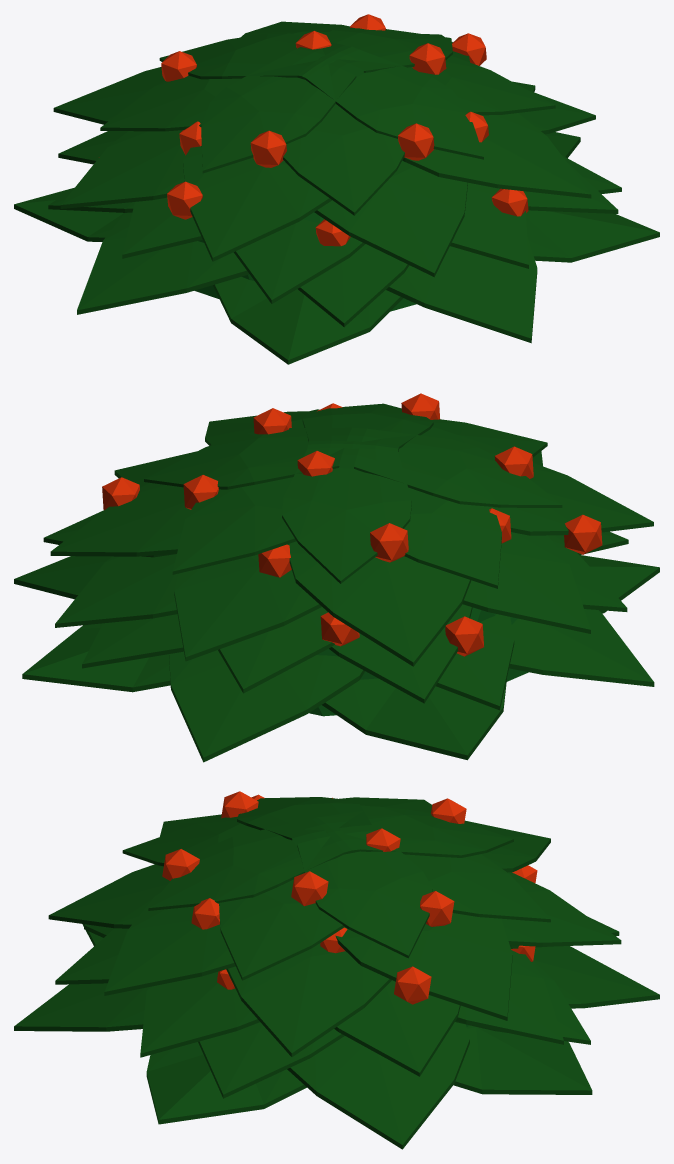
Rendered from BushLOrangeFruits.obj.
3 views of the same model, one above another, from view 1: azimuth 30°, elevation 25°; view 2: azimuth 150°, elevation 25°; view 3: azimuth 270°, elevation 25° (orthographic). The views are drawn at different scales.
Parts seen in each view (by area): view 1: BushLOrangeFruits_Icosphere.135; view 2: BushLOrangeFruits_Icosphere.135; view 3: BushLOrangeFruits_Icosphere.135.
Part boxes in pixels (bbox=[...]): BushLOrangeFruits_Icosphere.135: bbox=[14, 14, 659, 364]; BushLOrangeFruits_Icosphere.135: bbox=[14, 393, 659, 762]; BushLOrangeFruits_Icosphere.135: bbox=[14, 791, 659, 1149].
Size of the model in its own units: 10 by 3.2 by 10.07.
